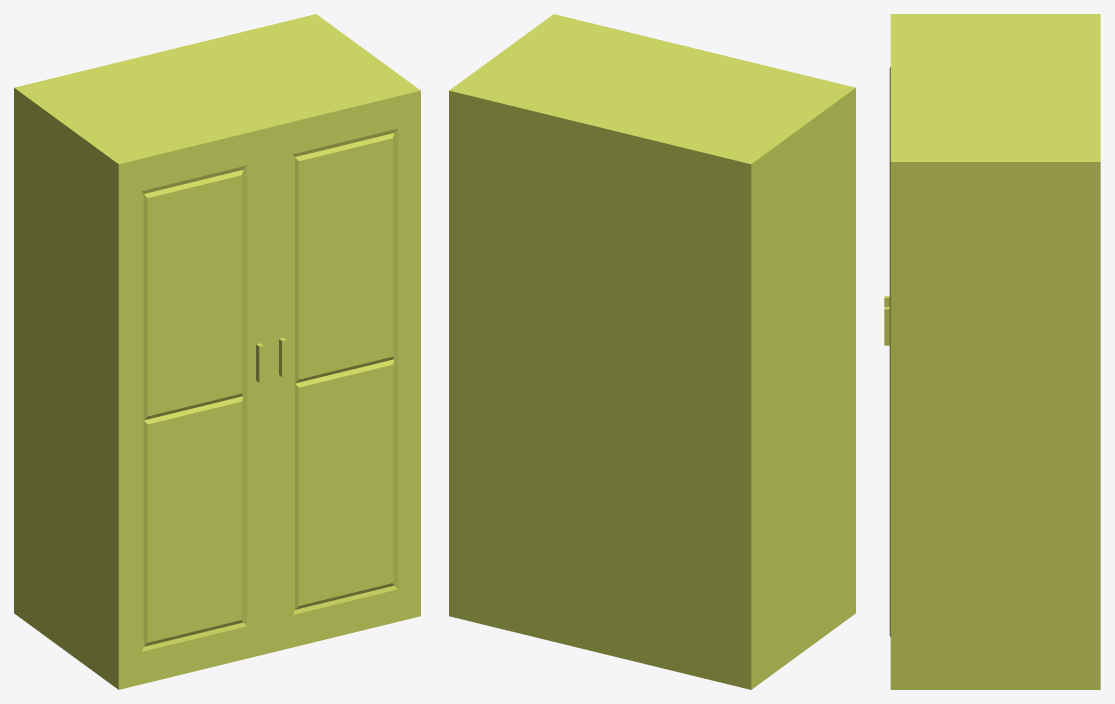
Rendered from Wardrobe.FBX.
The picture shows the model from 3 angles, left to right: view 1: azimuth 30°, elevation 25°; view 2: azimuth 150°, elevation 25°; view 3: azimuth 270°, elevation 25°; orthographic projection.
Parts seen in each view (by area): view 1: Wardrobe; view 2: Wardrobe; view 3: Wardrobe.
Boxes of the visible parts, bbox=[...] form: Wardrobe: bbox=[14, 14, 420, 689]; Wardrobe: bbox=[449, 14, 855, 689]; Wardrobe: bbox=[884, 14, 1100, 689].
Bounding box in the file's own units: 28.41 × 47.23 × 17.55.
